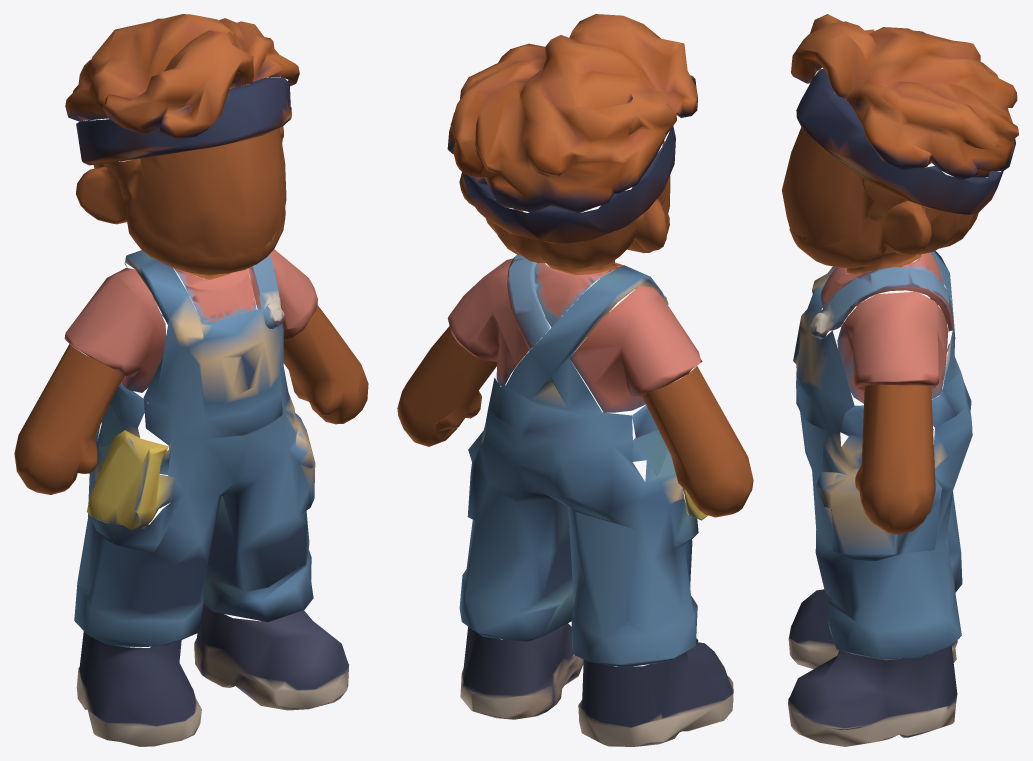
3 views of the same model, side by side, from view 1: azimuth 30°, elevation 25°; view 2: azimuth 150°, elevation 25°; view 3: azimuth 270°, elevation 25° (orthographic). The views are drawn at different scales.
Visible parts, largest first — view 1: bottom, head, hair, sleeve_r, shoe_l, shoe_r, hand_r, acc_head_0, hand_l, top, sleeve_l; view 2: bottom, hair, sleeve_r, shoe_r, hand_r, shoe_l, acc_head_0, hand_l, head, sleeve_l, top; view 3: bottom, hair, head, shoe_l, sleeve_l, hand_l, acc_head_0, top, shoe_r.
Boxes of the visible parts, x1,y1,x2,y2 form: bottom: (74,250,315,647); head: (76,126,286,279); hair: (65,14,299,140); sleeve_r: (64,268,175,530); shoe_l: (194,603,349,710); shoe_r: (76,631,201,746); hand_r: (14,344,125,494); acc_head_0: (76,77,291,165); hand_l: (283,305,368,424); top: (173,255,284,329); sleeve_l: (269,249,317,418); bottom: (459,265,698,667); hair: (447,14,697,212); sleeve_r: (569,286,707,520); shoe_r: (578,642,733,746); hand_r: (642,366,753,517); shoe_l: (460,623,583,719); acc_head_0: (462,126,675,243); hand_l: (397,326,497,446); head: (459,140,670,274); sleeve_l: (447,258,528,386); top: (507,254,623,350); bottom: (793,251,972,659); hair: (791,14,1018,180); head: (782,127,978,273); shoe_l: (788,645,957,746); sleeve_l: (837,291,948,468); hand_l: (855,384,935,534); acc_head_0: (796,69,1003,214); top: (810,252,953,339); shoe_r: (788,589,957,669).
Bounding box in the file's own units: 0.5486 × 1.03 × 0.3329.
